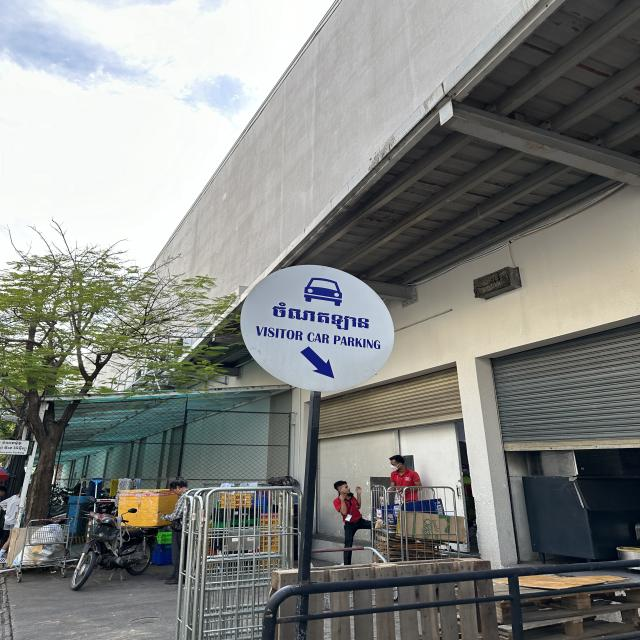Yolov11kh: (260, 298, 373, 336)
